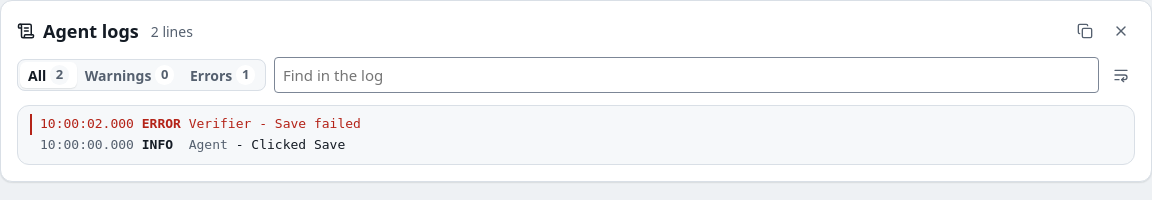
Test: LogTail copy › copies the lines oldest first, as a log is read elsewhere
Click the button named "Copy the log" at (1085, 31), box [1071,17,1099,45]
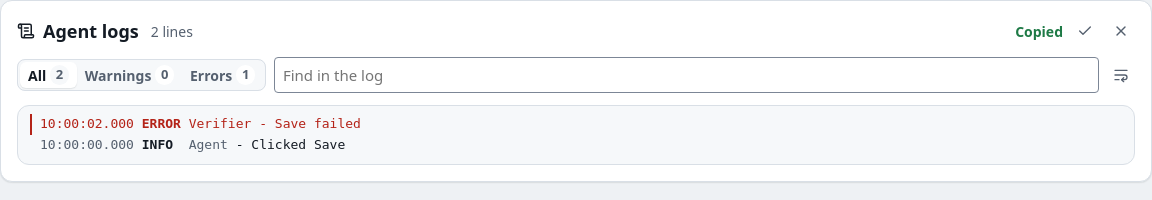
Check: the text "Copied" is shown, box [1015,20,1063,42]
